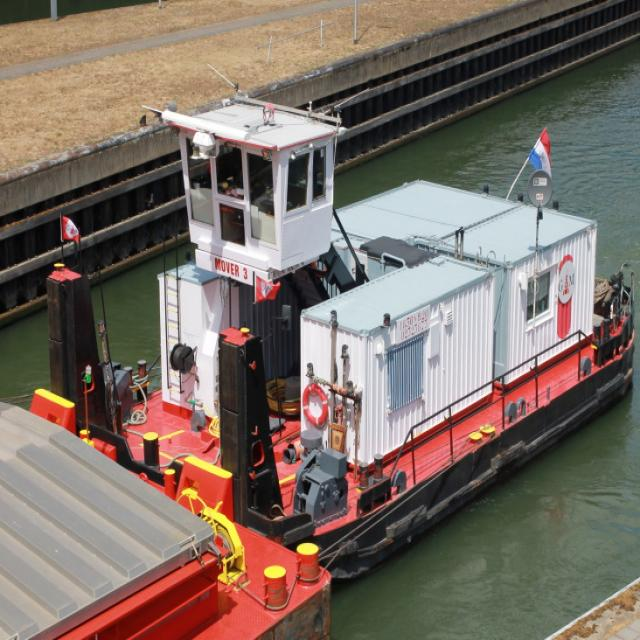tugboat: (41, 88, 640, 596)
